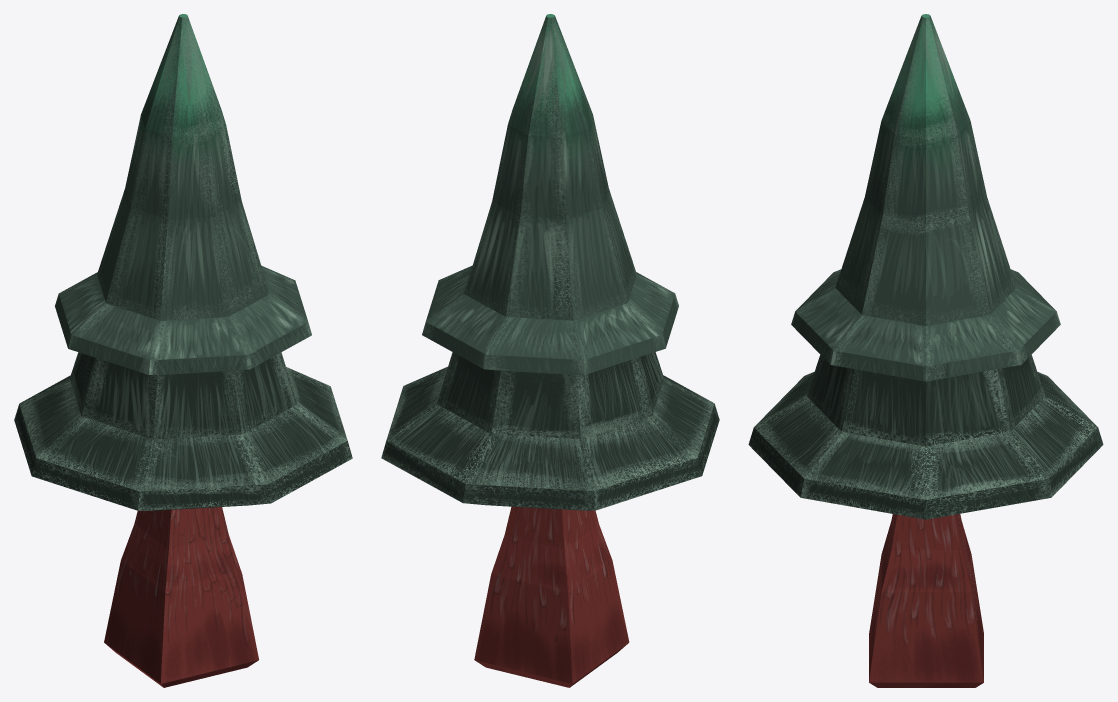
Rendered from Sapin.fbx.
The picture shows the model from 3 angles, left to right: view 1: azimuth 30°, elevation 25°; view 2: azimuth 150°, elevation 25°; view 3: azimuth 270°, elevation 25°; orthographic projection.
Parts seen in each view (by area): view 1: Sapin; view 2: Sapin; view 3: Sapin.
Boxes of the visible parts, x1,y1,x2,y2 form: Sapin: (14, 14, 352, 687); Sapin: (381, 14, 719, 687); Sapin: (748, 14, 1103, 687).
Size of the model in its own units: 789 by 1599 by 789.
